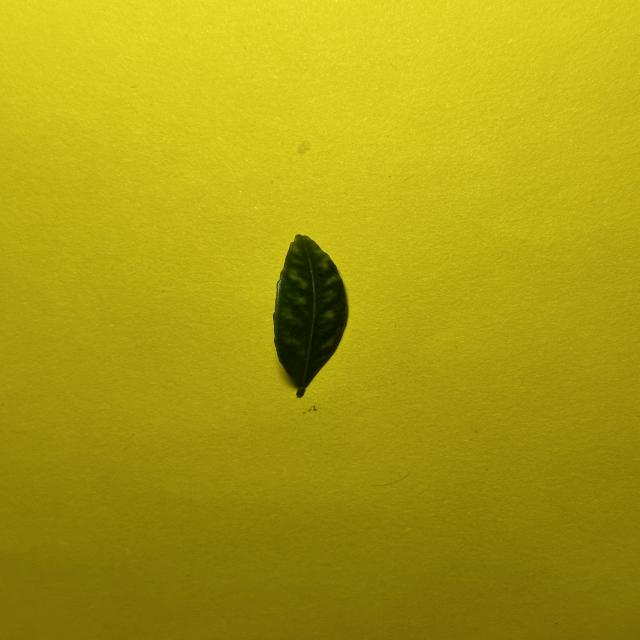greening: (273, 234, 349, 397)
